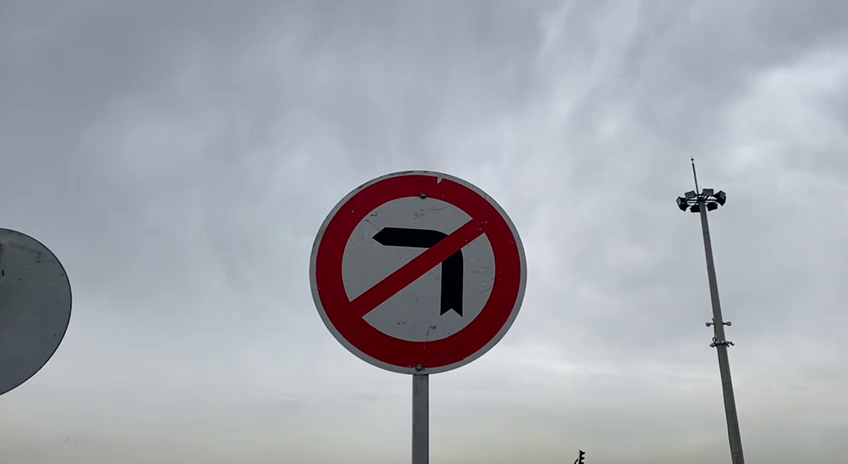noTurnLeft: (305, 164, 531, 377)
